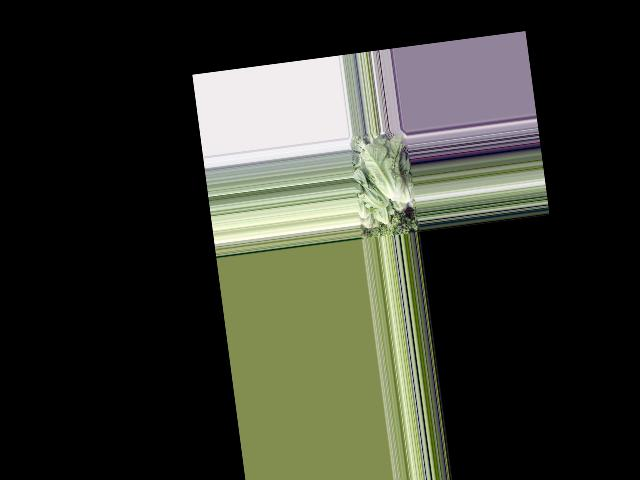lettuce: (354, 163, 388, 213)
